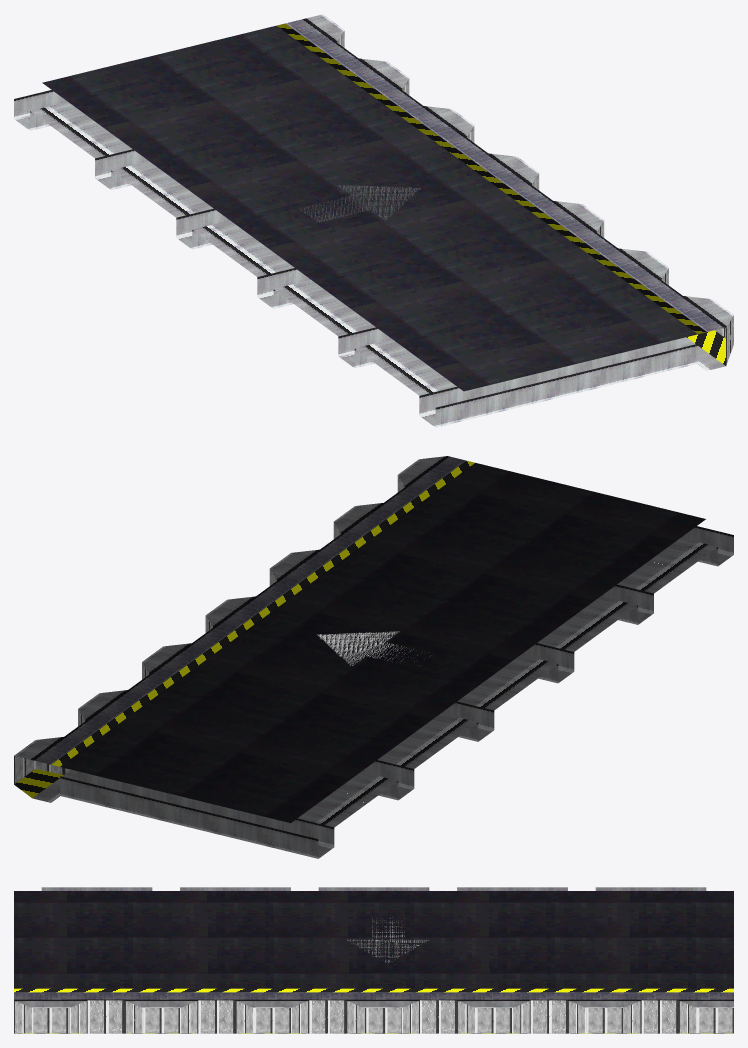
File: Pshuttle_door_lZ.obj
3 views of the same model, one above another, from view 1: azimuth 30°, elevation 25°; view 2: azimuth 150°, elevation 25°; view 3: azimuth 270°, elevation 25° (orthographic). The views are drawn at different scales.
Size of the model in its own units: 550 by 66 by 1300.
8 materials, 8 textured.
